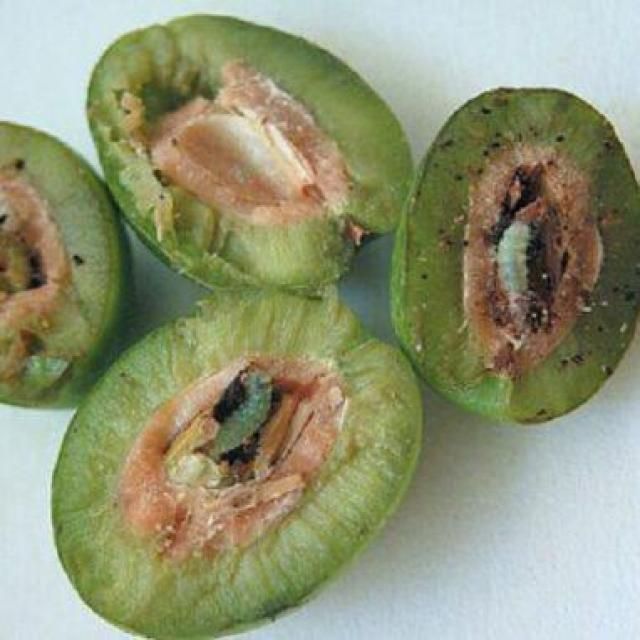Anthracnose: (57, 287, 410, 638), (87, 16, 412, 286), (414, 90, 638, 420), (0, 121, 129, 402)
